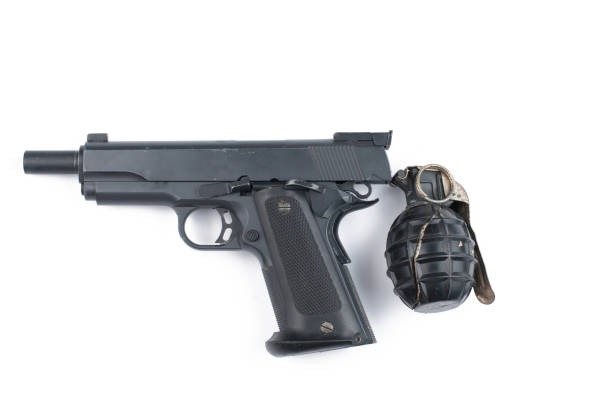e1: (388, 165, 495, 319)
